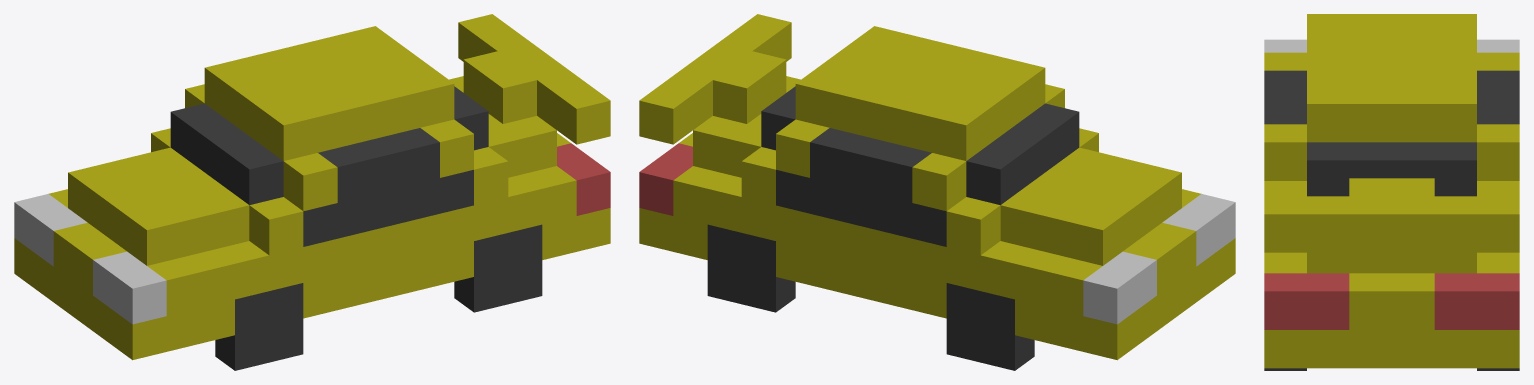
The model's file is racer-v1-yellow.gltf.
3 views of the same model, side by side, from view 1: azimuth 30°, elevation 25°; view 2: azimuth 150°, elevation 25°; view 3: azimuth 270°, elevation 25° (orthographic). The views are drawn at different scales.
Parts seen in each view (by area): view 1: model, wheels; view 2: model, wheels; view 3: model, wheels.
Part boxes in pixels (left/top/right/bottom): model: left=14, top=14, right=610, bottom=360; wheels: left=215, top=224, right=542, bottom=370; model: left=639, top=14, right=1235, bottom=360; wheels: left=707, top=224, right=1034, bottom=370; model: left=1264, top=14, right=1519, bottom=368; wheels: left=1264, top=368, right=1519, bottom=370.
Size of the model in its own units: 1.4 by 0.6 by 0.6.
Materials: 2 (2 with a texture image).
